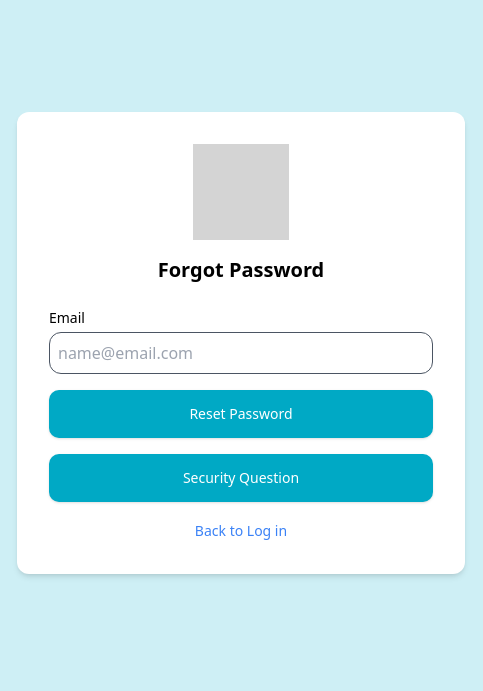
Forgot Password Page › should toggle between Email Reset and Security Question
Click the button "Security Question" at (241, 478), box [49,454,433,502]
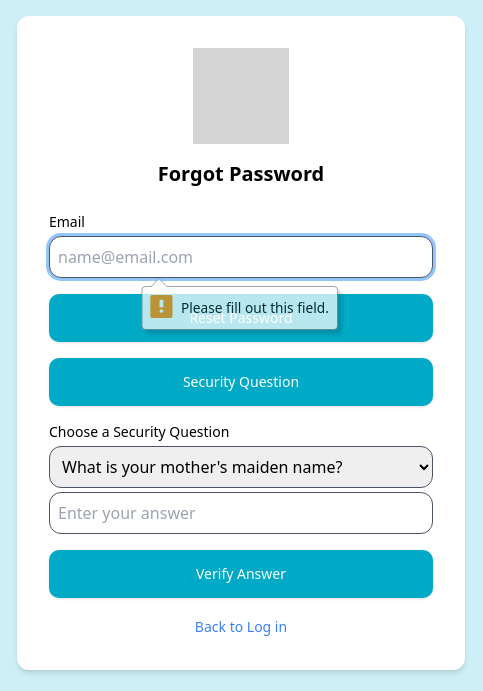
Expected: the button "Security Question" is shown, [49,358,433,406]
Result: the dropdown with id "securityQuestion" is shown at [49,446,433,488]
